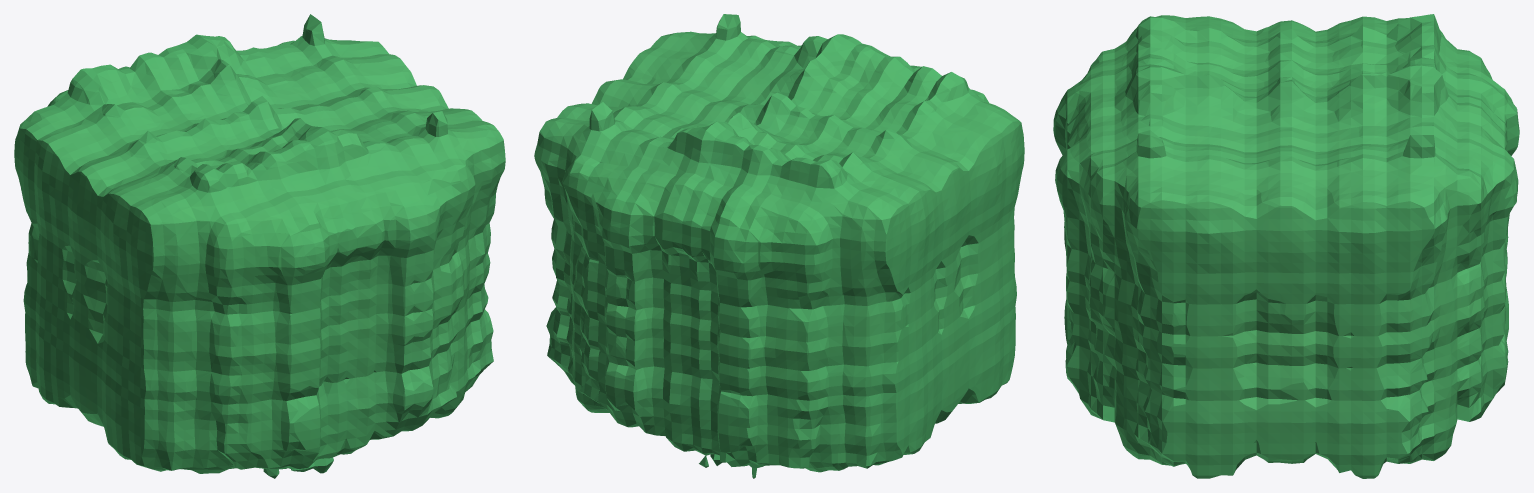
The picture shows the model from 3 angles, left to right: view 1: azimuth 30°, elevation 25°; view 2: azimuth 150°, elevation 25°; view 3: azimuth 270°, elevation 25°; orthographic projection. The views are drawn at different scales.
Parts seen in each view (by area): view 1: geometry_0; view 2: geometry_0; view 3: geometry_0.
Boxes of the visible parts, box(x1,y1,x2,y2) form: geometry_0: box(14, 14, 505, 478); geometry_0: box(534, 14, 1024, 478); geometry_0: box(1053, 14, 1519, 478).
Bounding box in the file's own units: 1.65 × 1.49 × 1.68.
